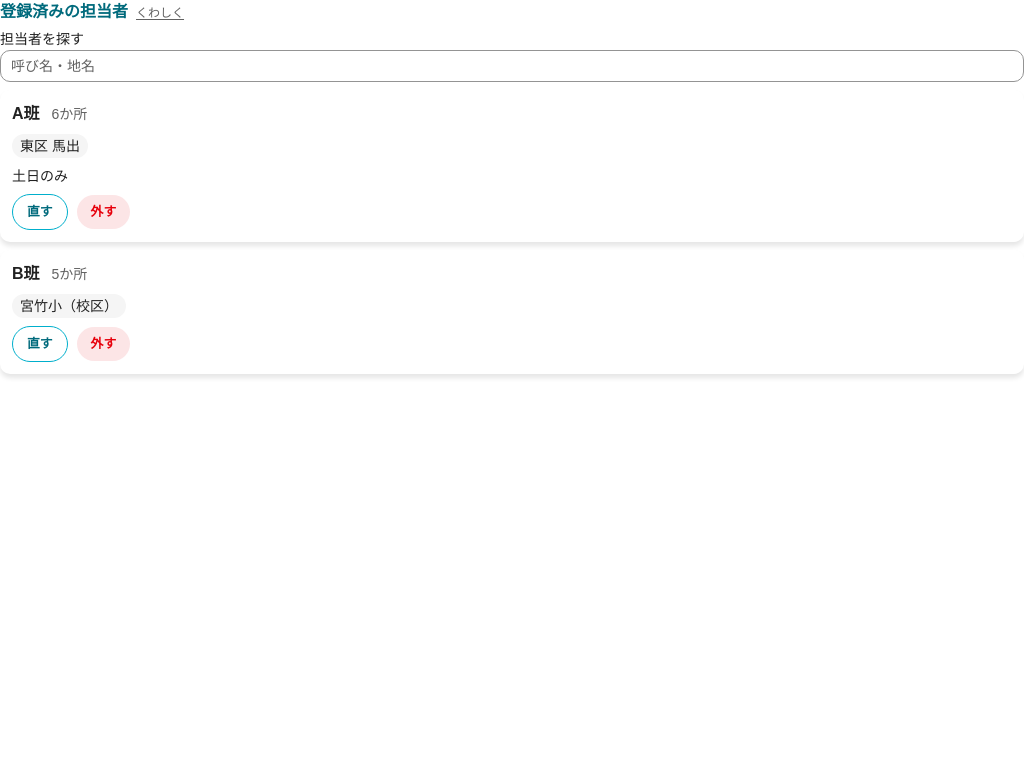
Test: 外せなかったら理由を role=alert で出す
Click the button with aria-label "B班を外す".
click(103, 344)  # box [76,326,131,362]
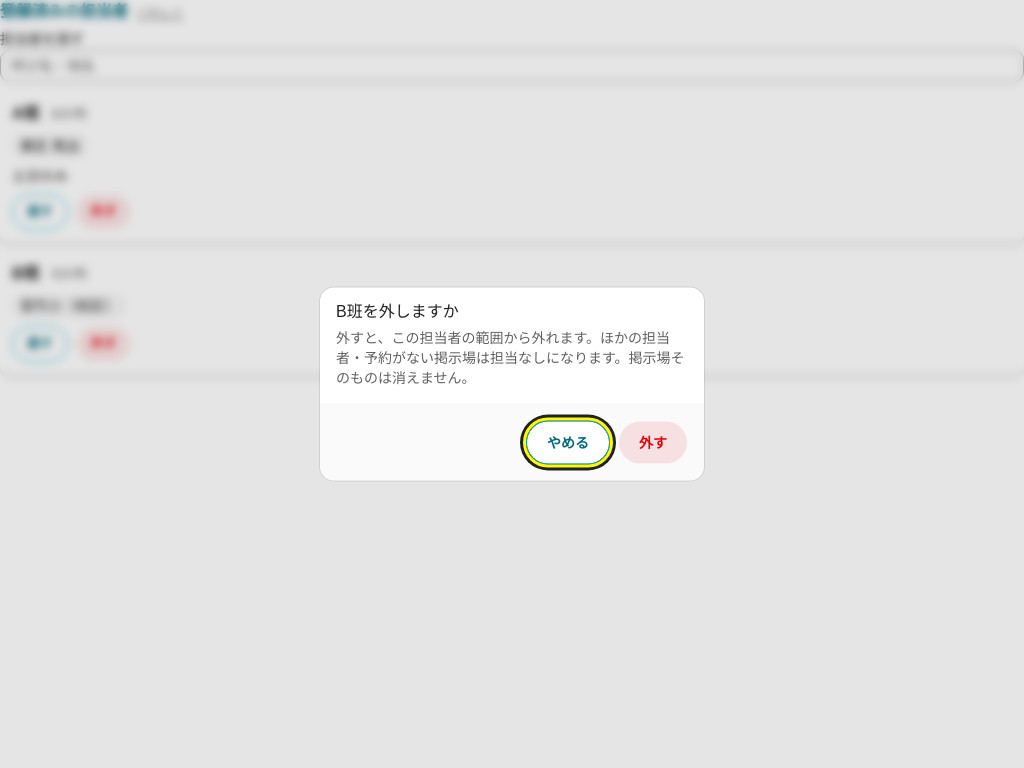
Click the button "外す".
click(653, 442)  # box [618,420,688,464]
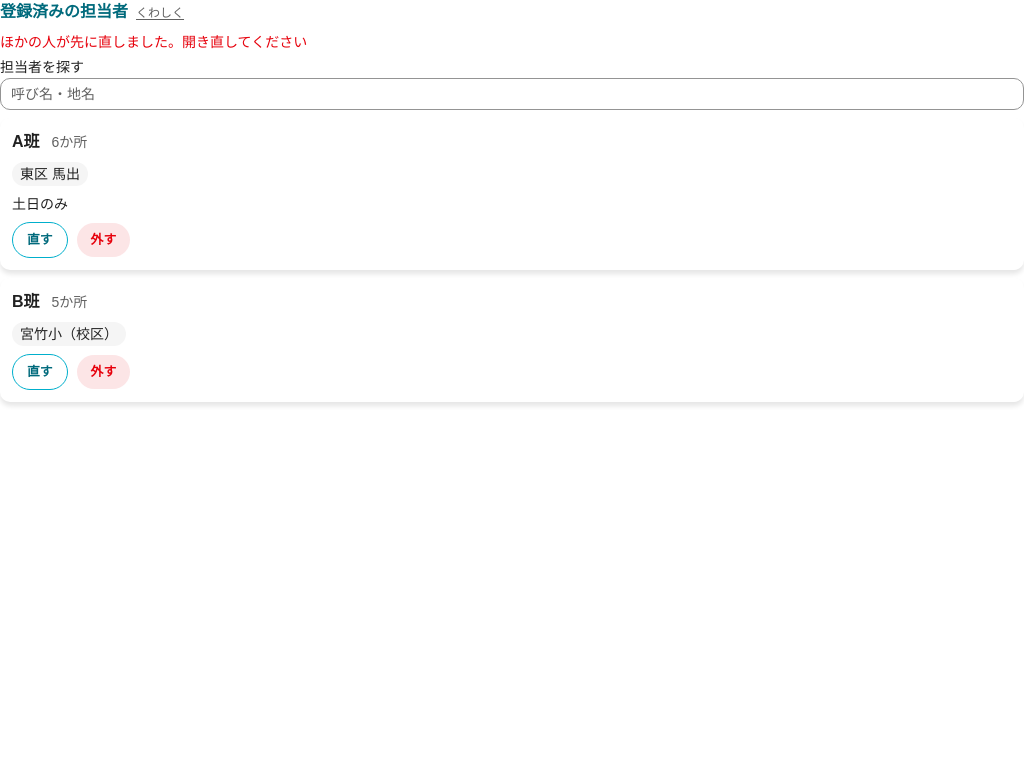
Now the message shows "ほかの人が先に直しました", box [0,34,307,50]
